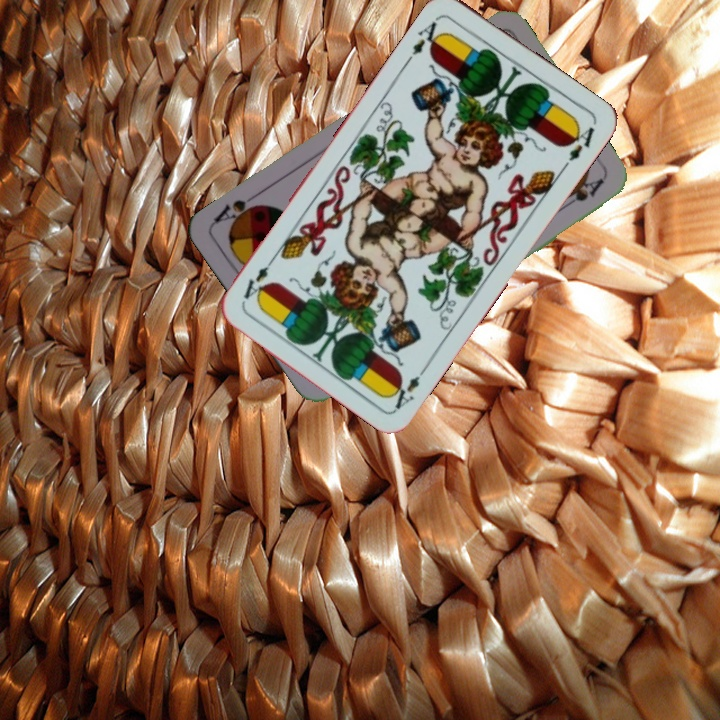EA: (408, 13, 447, 58), (384, 372, 423, 412)
